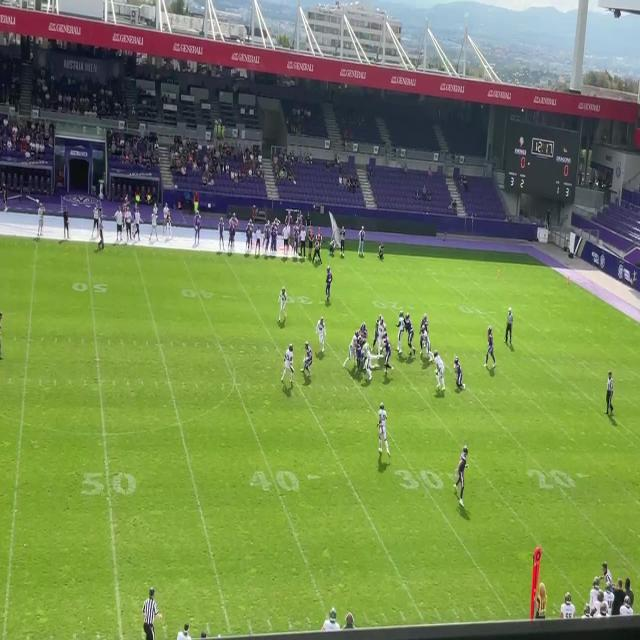2: (526, 462, 556, 494)
3: (392, 463, 420, 495)
4: (248, 465, 274, 497)
5: (80, 466, 108, 501)
american-football-players: (453, 444, 472, 514), (374, 403, 394, 462), (432, 350, 449, 395), (281, 344, 297, 388), (343, 330, 357, 373), (486, 323, 498, 373), (300, 341, 314, 381), (453, 356, 467, 396), (315, 313, 329, 352), (380, 337, 395, 373), (405, 309, 416, 358), (420, 325, 436, 358), (396, 308, 407, 356), (277, 286, 290, 324), (362, 341, 374, 381), (324, 265, 334, 302), (355, 334, 364, 369), (420, 310, 430, 335), (379, 317, 388, 344), (358, 320, 369, 340), (374, 315, 382, 340)
